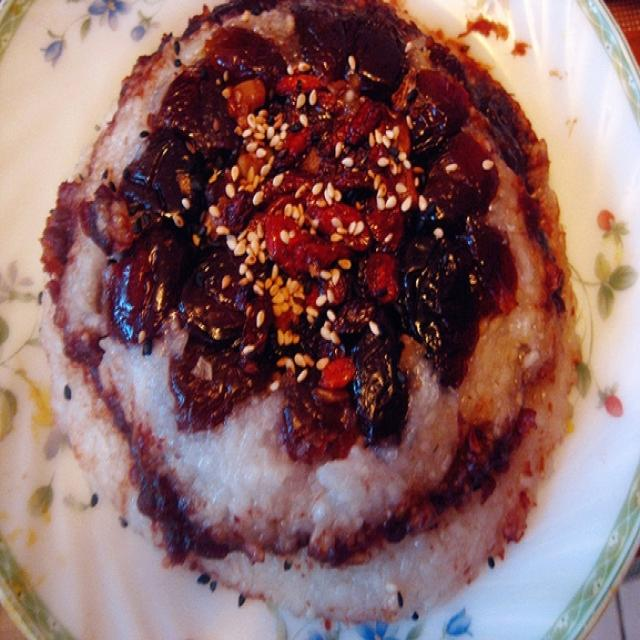米饭主食: (38, 5, 596, 594)
